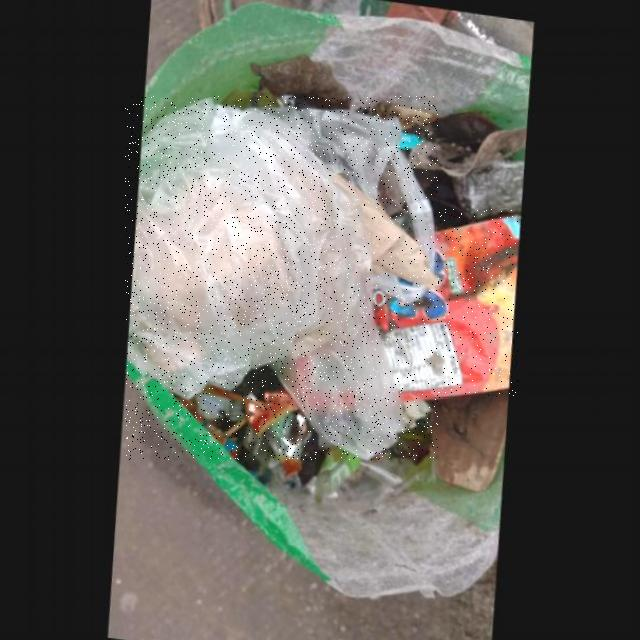paper: (333, 173, 436, 287)
plastic: (125, 96, 438, 460)
wrapper: (368, 210, 518, 398)
